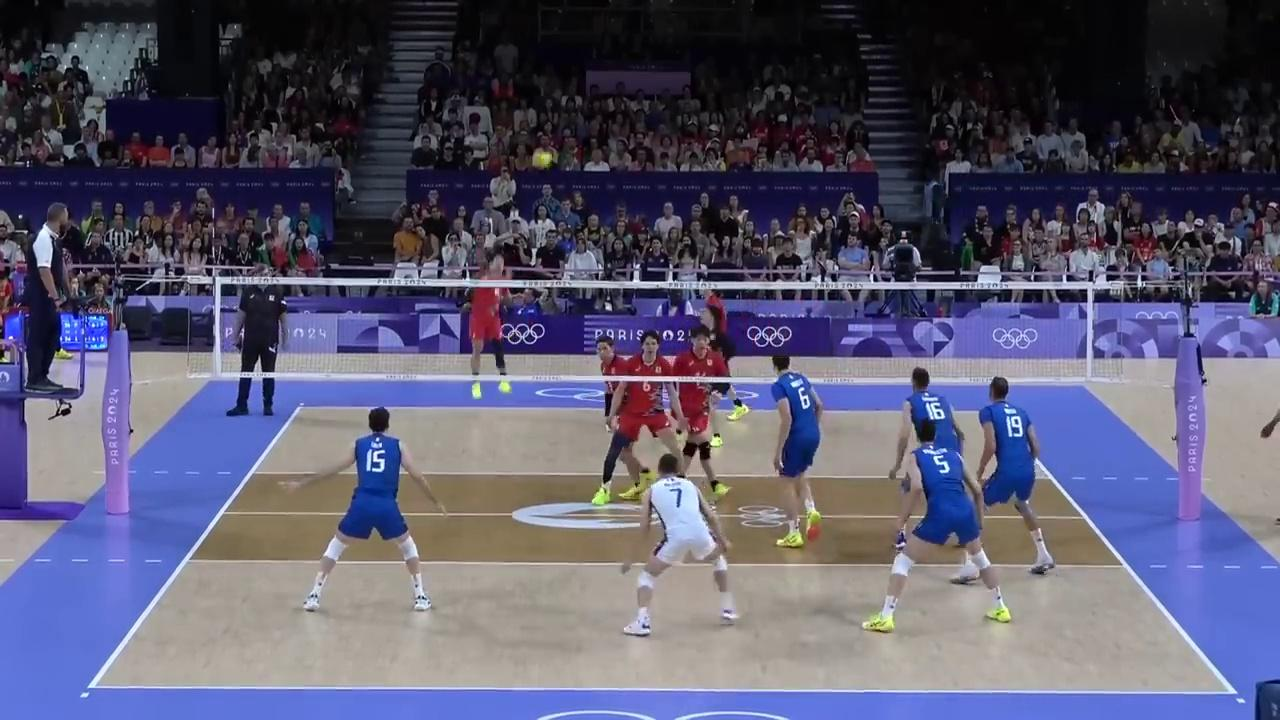ball: (532, 151, 552, 168)
